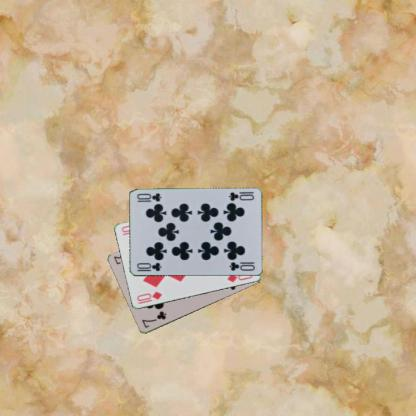10c: (226, 190, 255, 202), (134, 260, 162, 272)
10d: (134, 289, 163, 305)
7c: (139, 309, 168, 330)
